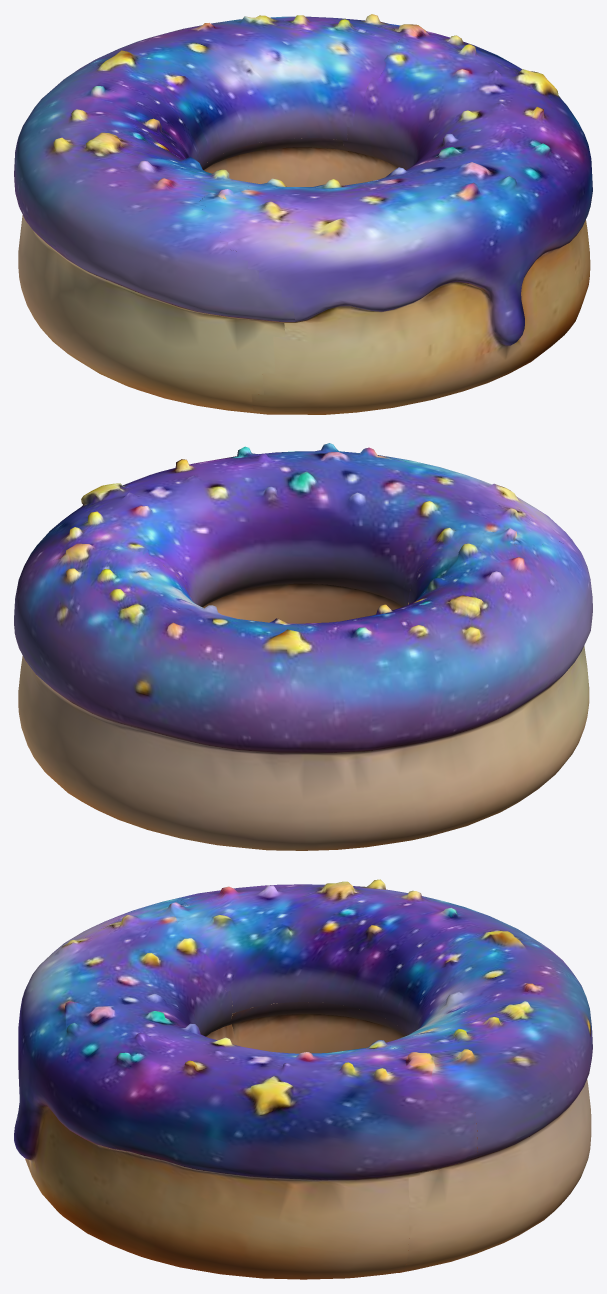
The model's file is galaxy_donut.glb.
The picture shows the model from 3 angles, top to bottom: view 1: azimuth 30°, elevation 25°; view 2: azimuth 150°, elevation 25°; view 3: azimuth 270°, elevation 25°; orthographic projection.
Parts seen in each view (by area): view 1: galaxy_donut; view 2: galaxy_donut; view 3: galaxy_donut.
Boxes of the visible parts, x1,y1,x2,y2 form: galaxy_donut: (14, 14, 592, 414); galaxy_donut: (14, 443, 592, 850); galaxy_donut: (14, 879, 592, 1279).
Bounding box in the file's own units: 0.3733 × 0.1461 × 0.3802.
1 material, 1 textured.
